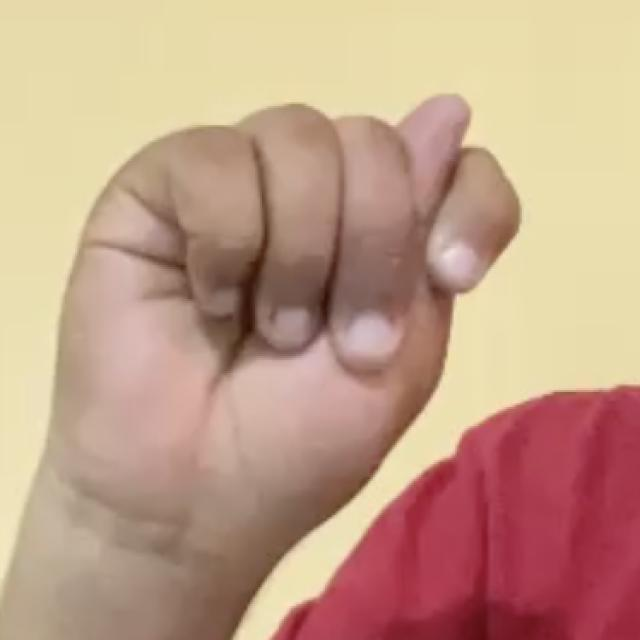T: (33, 66, 534, 538)
